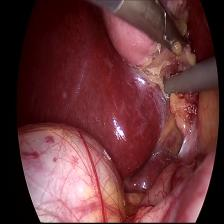Grasper: (155, 0, 194, 63)
Irrigator: (163, 68, 189, 101)
